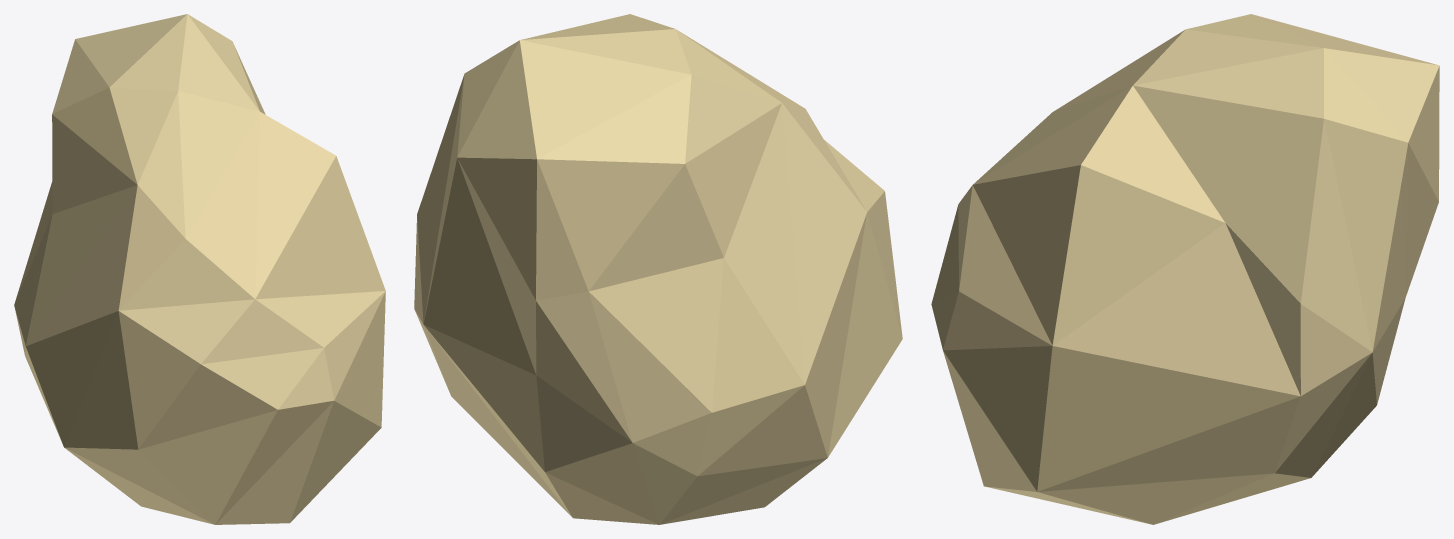
The model's file is Rock (69).fbx.
3 renders of one model, left to right at view 1: azimuth 30°, elevation 25°; view 2: azimuth 150°, elevation 25°; view 3: azimuth 270°, elevation 25°, orthographic. The views are drawn at different scales.
Visible parts, largest first — view 1: Asteroid68; view 2: Asteroid68; view 3: Asteroid68.
Part boxes in pixels (x1=…): Asteroid68: x1=14, y1=14, x2=385, y2=524; Asteroid68: x1=414, y1=14, x2=902, y2=524; Asteroid68: x1=931, y1=14, x2=1439, y2=524.
Size of the model in its own units: 64.01 by 87.45 by 81.8.
